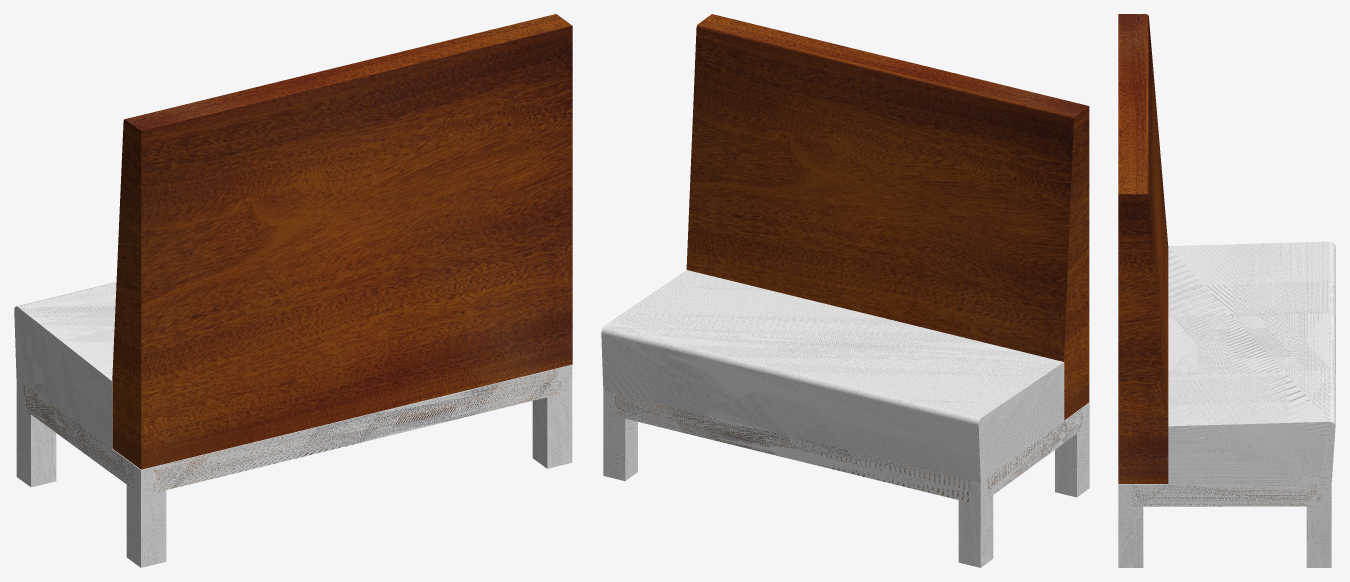
3 renders of one model, left to right at view 1: azimuth 30°, elevation 25°; view 2: azimuth 150°, elevation 25°; view 3: azimuth 270°, elevation 25°, orthographic. The views are drawn at different scales.
Visible parts, largest first — view 1: mesh1_mesh1-geometry, mesh3_mesh3-geometry; view 2: mesh1_mesh1-geometry, mesh3_mesh3-geometry; view 3: mesh3_mesh3-geometry, mesh1_mesh1-geometry.
Part boxes in pixels (box(x1,y1,x2,y2)): mesh1_mesh1-geometry: box(112, 14, 572, 469); mesh3_mesh3-geometry: box(14, 282, 572, 567); mesh1_mesh1-geometry: box(686, 14, 1089, 420); mesh3_mesh3-geometry: box(601, 270, 1089, 567); mesh3_mesh3-geometry: box(1118, 241, 1335, 567); mesh1_mesh1-geometry: box(1118, 14, 1168, 483).
Bounding box in the file's own units: 0.6752 × 0.6528 × 0.3435.
